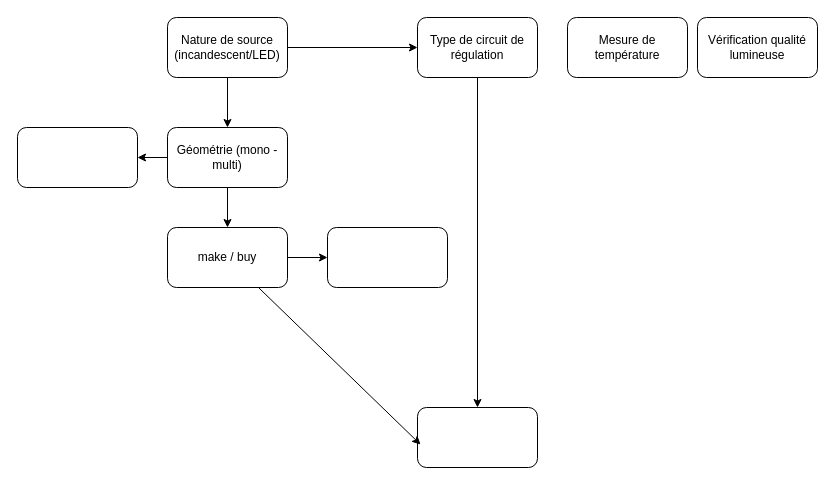
Image size: 835x485. Some labels were removed from this diagram. The shapes that lost their labels are listed below. From the top down, each one's centre as x and y in pixels, then its label:
the point at 77,157: Diffuseur
the point at 387,257: Dissipateur Thermique
the point at 477,437: design détaillé
